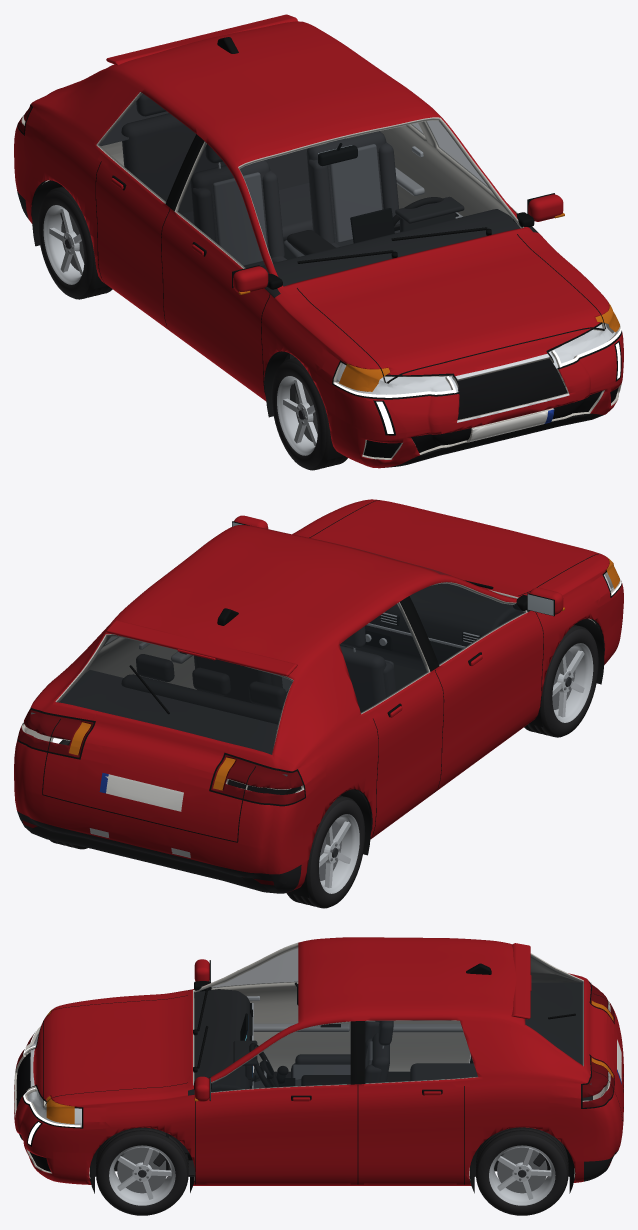
Rendered from compact_hatchback.glb.
The picture shows the model from 3 angles, top to bottom: view 1: azimuth 30°, elevation 25°; view 2: azimuth 150°, elevation 25°; view 3: azimuth 270°, elevation 25°; orthographic projection. The views are drawn at different scales.
Parts seen in each view (by area): view 1: body, wheel_rear_right, wheel_front_right, mirrors, indicator_right; view 2: body, wheel_rear_right, wheel_front_right, mirrors, indicator_right; view 3: body, wheel_rear_left, wheel_front_left, mirrors, indicator_left, steering.
Part boxes in pixels (x1,y1,x2,y2): body: [14, 14, 623, 468]; wheel_rear_right: [38, 186, 112, 299]; wheel_front_right: [271, 357, 347, 470]; mirrors: [232, 193, 563, 292]; indicator_right: [238, 291, 390, 391]; body: [14, 499, 623, 897]; wheel_rear_right: [286, 795, 365, 908]; wheel_front_right: [524, 625, 598, 737]; mirrors: [232, 515, 563, 616]; indicator_right: [213, 557, 619, 790]; body: [14, 937, 623, 1193]; wheel_rear_left: [476, 1127, 568, 1215]; wheel_front_left: [96, 1127, 188, 1215]; mirrors: [194, 959, 211, 1101]; indicator_left: [46, 1058, 613, 1124]; steering: [249, 1043, 278, 1087].
Bounding box in the file's own units: 2.08 × 1.49 × 4.14.
